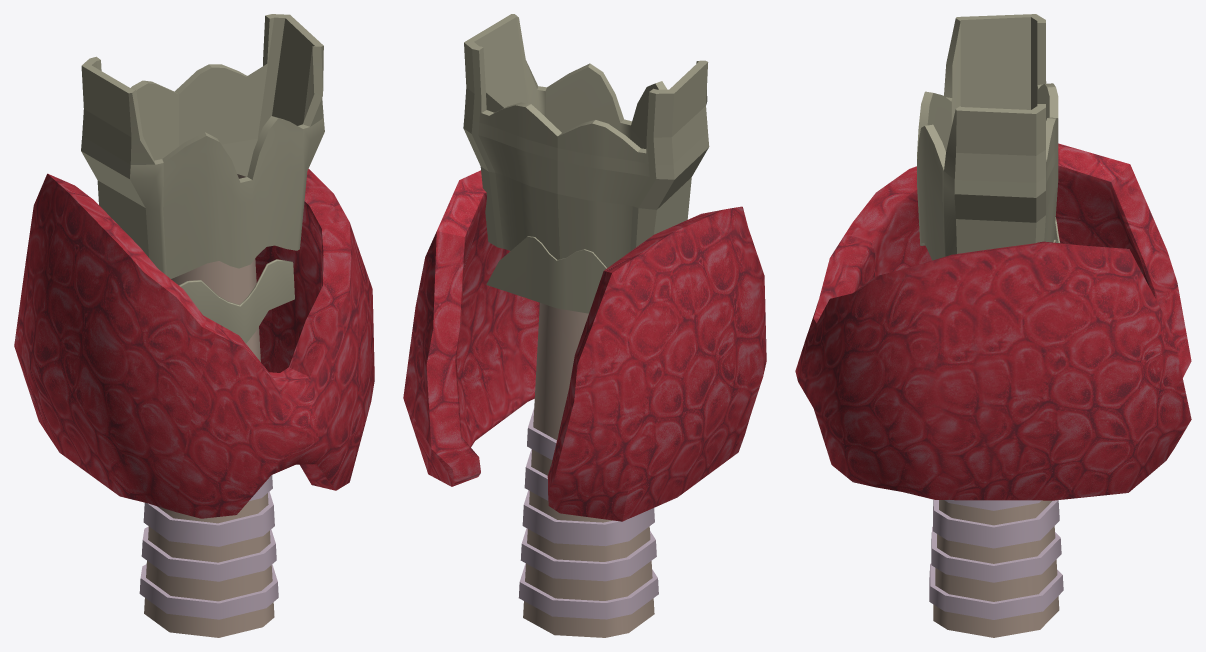
Rendered from thyroide_gland.fbx.
3 views of the same model, side by side, from view 1: azimuth 30°, elevation 25°; view 2: azimuth 150°, elevation 25°; view 3: azimuth 270°, elevation 25° (orthographic). The views are drawn at different scales.
Visible parts, largest first — view 1: pCylinder2, pPlane1, pCylinder3, pPlane6; view 2: pCylinder2, pPlane1, pCylinder3, pPlane5; view 3: pCylinder2, pPlane1, pCylinder3.
Part boxes in pixels (x1,y1,x2,y2): pCylinder2: (14,169,374,518); pPlane1: (81,14,324,278); pCylinder3: (139,174,278,637); pPlane6: (179,259,294,343); pCylinder2: (403,170,766,521); pPlane1: (463,14,709,267); pCylinder3: (518,303,658,637); pPlane5: (486,236,606,313); pCylinder2: (795,143,1191,500); pPlane1: (917,14,1058,260); pCylinder3: (929,499,1063,637).
Size of the model in its own units: 39.79 by 77.87 by 51.28.
Materials: 4 (1 with a texture image).
